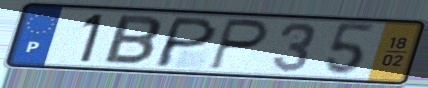1: (78, 13, 105, 64)
3: (270, 20, 320, 75)
5: (321, 20, 380, 79)
B: (100, 13, 164, 67)
P: (150, 15, 221, 70), (206, 16, 271, 73)
